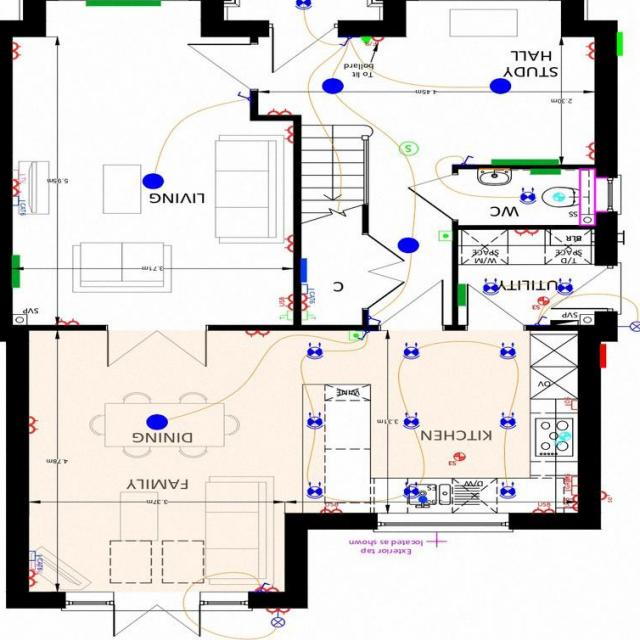BT Entry Point: (363, 38, 373, 46)
Cat 6 Data Socket: (14, 197, 28, 217), (303, 285, 317, 305), (30, 552, 44, 570)
Ceiling Mounted Continuous Extract FanWith Boost Mode Activated By Light Switch: (554, 194, 566, 203)
Ceiling Mounted Continuous Extract FanWith Local Boost Switch: (533, 297, 551, 311), (449, 453, 466, 467)
Co-Ax TV Socket: (14, 171, 28, 185), (30, 562, 43, 577)
Consumer Unit: (551, 320, 579, 327)
Double Socket: (514, 230, 540, 238), (13, 42, 23, 61), (267, 109, 293, 116), (285, 127, 295, 145), (586, 144, 596, 162), (586, 43, 596, 61), (30, 416, 40, 434), (246, 332, 271, 339), (285, 236, 295, 253), (30, 571, 40, 588), (56, 319, 80, 326), (256, 585, 280, 592), (302, 295, 311, 311), (14, 180, 22, 197), (268, 610, 290, 616)
Electric Meter Box: (601, 345, 607, 369)
External Wall Light: (272, 609, 286, 629), (619, 322, 640, 334)
Fused spur: (366, 37, 384, 47)
Gas Meter Box: (617, 33, 624, 58)
Grid Switch: (564, 482, 579, 497)
Hob Switch: (564, 474, 578, 486)
Light Switch: (340, 38, 353, 48), (461, 156, 474, 166), (370, 316, 382, 326), (536, 316, 548, 326), (259, 583, 271, 592), (358, 332, 370, 340)
Low Energy Downlighter: (501, 482, 518, 501), (404, 343, 421, 361), (500, 343, 517, 361), (520, 188, 538, 205), (404, 482, 420, 500), (501, 412, 517, 430), (308, 412, 324, 430), (404, 414, 420, 431), (558, 279, 574, 296), (484, 279, 500, 296), (308, 483, 324, 500), (308, 343, 324, 360), (296, 0, 312, 11)
Low Energy Pendant Light: (398, 238, 420, 254), (322, 79, 344, 95), (491, 79, 512, 95), (147, 415, 169, 430), (144, 174, 164, 190)
Mains Wired Smoke Detector: (400, 142, 419, 158)
Outside Socket: (602, 492, 613, 503)
Outside Tap: (427, 532, 448, 548)
Oven Switch: (565, 398, 579, 411)
Programmable Room Thermostat: (440, 232, 453, 242), (350, 332, 364, 341)
Radiator: (87, 0, 162, 7), (494, 160, 560, 166), (458, 284, 468, 308), (13, 256, 20, 289), (531, 170, 562, 175)
Recirculating Extractor Fan: (555, 433, 571, 446)
Single Socket: (238, 91, 250, 103)
Telephone Socket: (302, 312, 317, 322), (281, 312, 294, 322)
USB Double Socket: (279, 294, 295, 310), (320, 504, 344, 514), (533, 504, 556, 514), (565, 497, 580, 512)
Underfloor Heating Manifold: (302, 259, 307, 283)
Water Entry Position: (419, 498, 429, 503)
